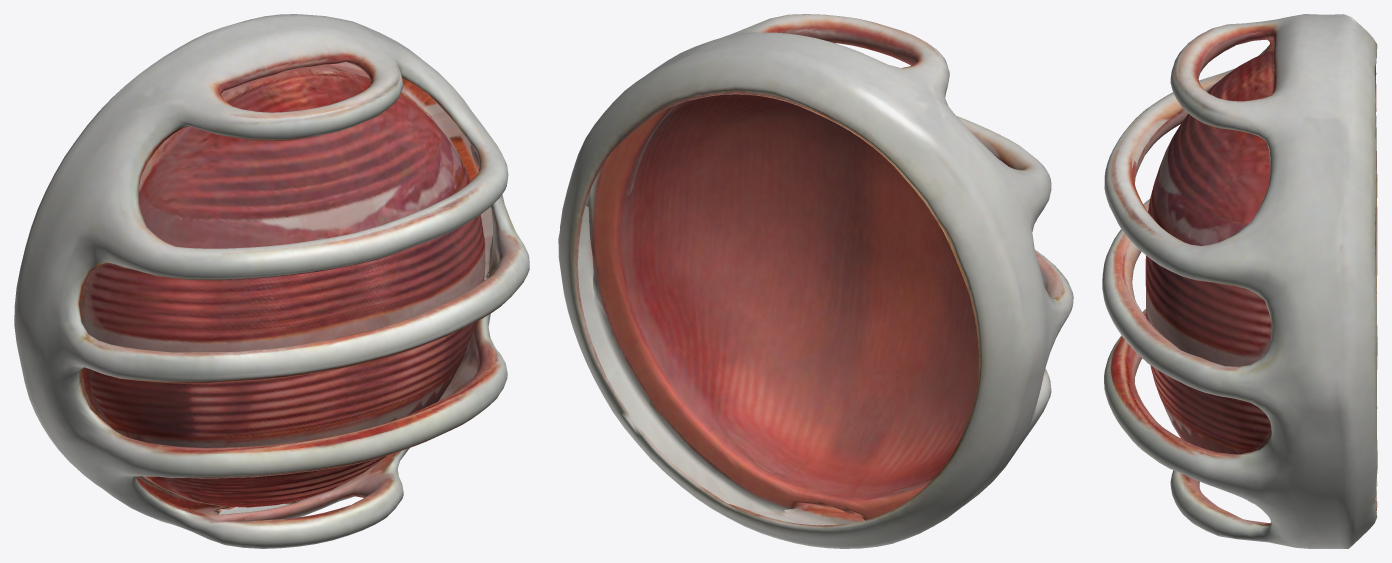
File: Retro_Headlight_texture.fbx
3 renders of one model, left to right at view 1: azimuth 30°, elevation 25°; view 2: azimuth 150°, elevation 25°; view 3: azimuth 270°, elevation 25°, orthographic.
Visible parts, largest first — view 1: Mesh1; view 2: Mesh1; view 3: Mesh1.
Part boxes in pixels (x1,y1,x2,y2): Mesh1: [14, 14, 529, 548]; Mesh1: [558, 14, 1073, 548]; Mesh1: [1102, 14, 1377, 548].
Size of the model in its own units: 199 by 196 by 101.
1 material, 1 textured.
